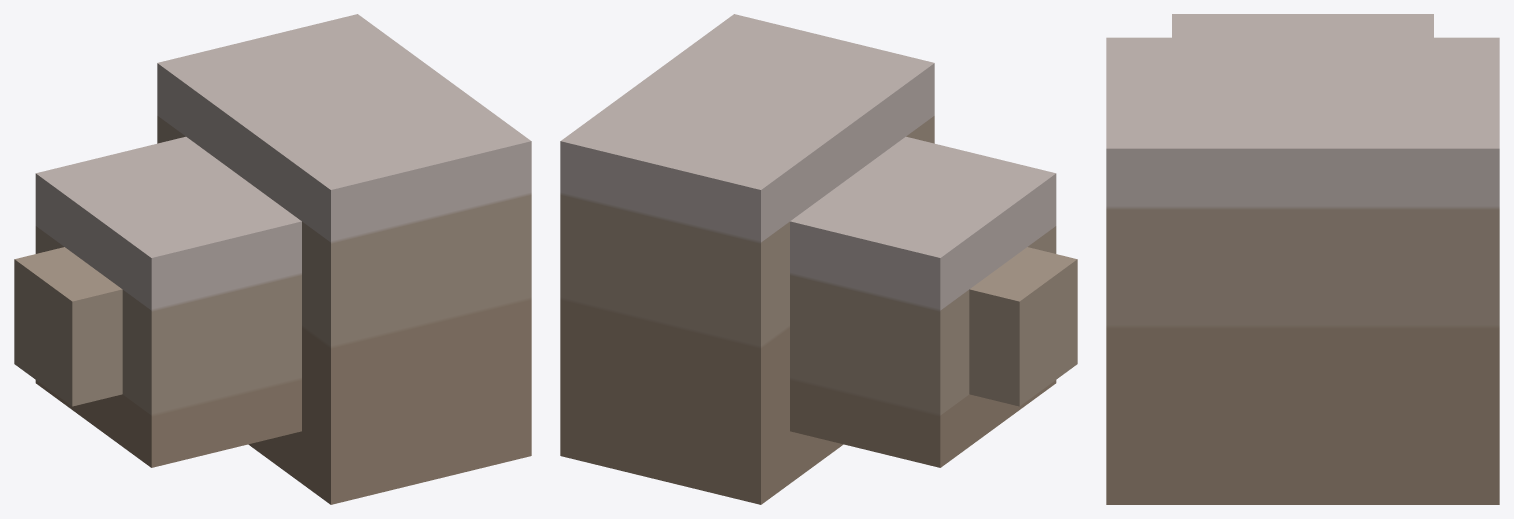
Rendered from Shoulder039.fbx.
3 views of the same model, side by side, from view 1: azimuth 30°, elevation 25°; view 2: azimuth 150°, elevation 25°; view 3: azimuth 270°, elevation 25° (orthographic). The views are drawn at different scales.
Visible parts, largest first — view 1: Shoulder039; view 2: Shoulder039; view 3: Shoulder039.
Boxes of the visible parts, left/top/right/bottom form: Shoulder039: left=14, top=14, right=531, bottom=504; Shoulder039: left=560, top=14, right=1077, bottom=504; Shoulder039: left=1106, top=14, right=1499, bottom=504.
Bounding box in the file's own units: 8 × 6 × 6.
